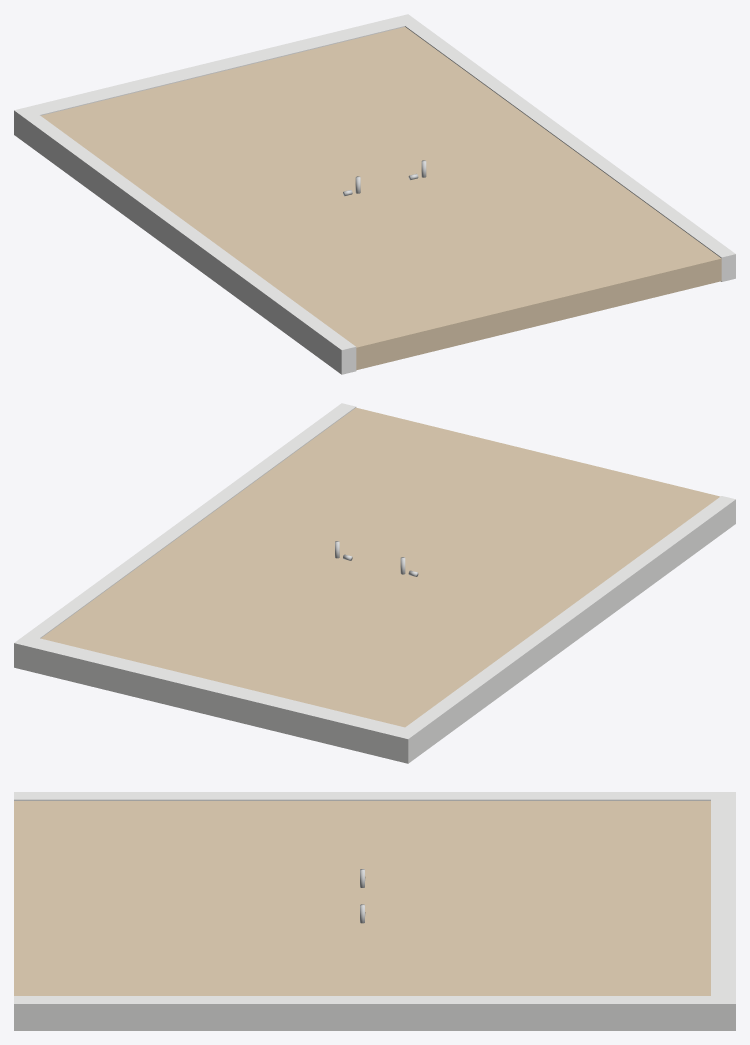
File: p2s_opening_door_double.glb
3 renders of one model, top to bottom at view 1: azimuth 30°, elevation 25°; view 2: azimuth 150°, elevation 25°; view 3: azimuth 270°, elevation 25°, orthographic. The views are drawn at different scales.
Parts seen in each view (by area): view 1: DoorLeafRight, DoorLeafLeft, DoorFrameLeft, DoorFrameRight, DoorFrameHeader; view 2: DoorLeafRight, DoorLeafLeft, DoorFrameHeader, DoorFrameLeft, DoorFrameRight; view 3: DoorLeafLeft, DoorLeafRight, DoorFrameRight, DoorFrameLeft, DoorFrameHeader.
Boxes of the visible parts, x1=… form: DoorLeafRight: x1=222, y1=27, x2=721, y2=325; DoorLeafLeft: x1=41, y1=71, x2=538, y2=370; DoorFrameLeft: x1=25, y1=115, x2=356, y2=374; DoorFrameRight: x1=405, y1=22, x2=735, y2=281; DoorFrameHeader: x1=14, y1=14, x2=418, y2=142; DoorLeafRight: x1=41, y1=407, x2=538, y2=682; DoorLeafLeft: x1=223, y1=452, x2=720, y2=727; DoorFrameHeader: x1=14, y1=635, x2=419, y2=763; DoorFrameLeft: x1=405, y1=496, x2=735, y2=755; DoorFrameRight: x1=25, y1=403, x2=356, y2=638; DoorLeafLeft: x1=14, y1=801, x2=710, y2=898; DoorLeafRight: x1=14, y1=899, x2=710, y2=995; DoorFrameRight: x1=14, y1=996, x2=710, y2=1030; DoorFrameLeft: x1=14, y1=792, x2=710, y2=800; DoorFrameHeader: x1=711, y1=792, x2=735, y2=1030.
Bounding box in the file's own units: 1.51 × 0.1428 × 2.18.
